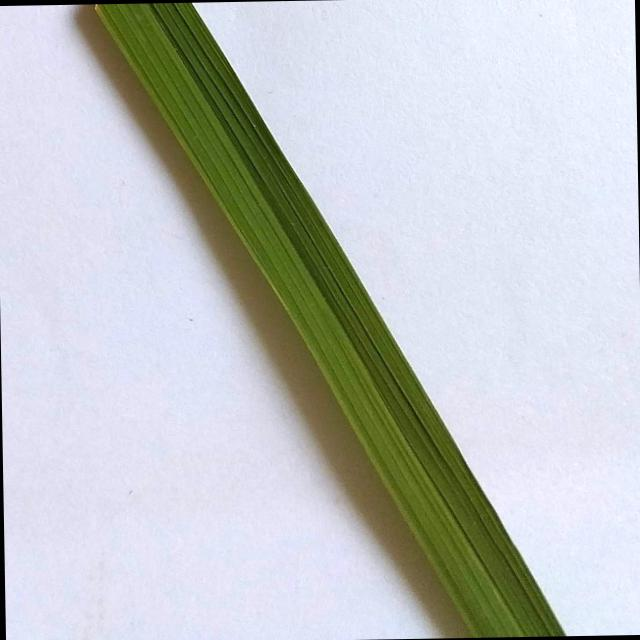Rice_Healthy: (97, 2, 566, 637)
